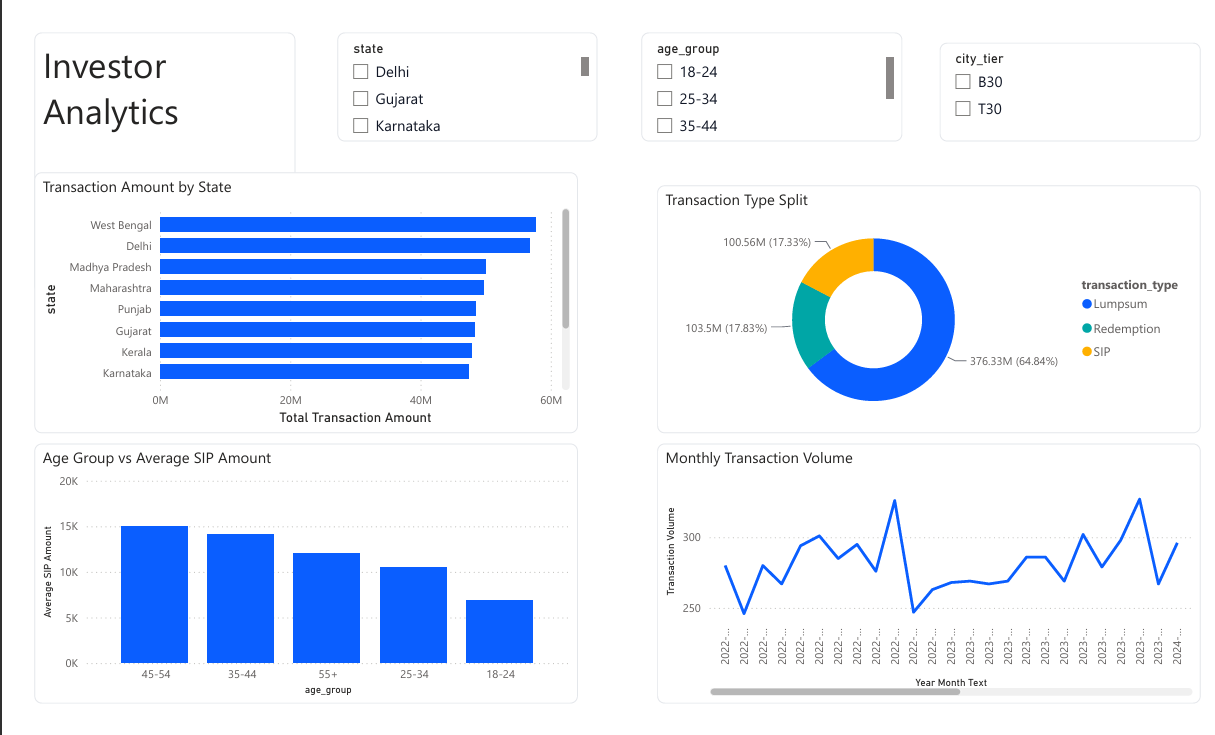

Layout of this report page (visuals, bound fields, positions):
{"tool":"powerbi","page":{"name":"Investor Analytics","canvas":[1280,720],"ordinal":2},"visuals":[{"type":"textbox","box":[10,0,280,280],"z":0},{"type":"slicer","fields":{"Values":["fact_transactions.state"]},"box":[335,0,279.4,116.9],"z":1},{"type":"slicer","fields":{"Values":["fact_transactions.age_group"]},"box":[661.4,0,279.4,116.9],"z":2},{"type":"slicer","fields":{"Values":["fact_transactions.city_tier"]},"box":[980.7,11.4,280.8,105.5],"z":3},{"type":"clusteredBarChart","title":"Transaction Amount by State","fields":{"Category":["fact_transactions.state"],"Y":["dim_date.Total Transaction Amount"]},"box":[10,149.7,583,280.8],"z":4},{"type":"donutChart","title":"Transaction Type Split","fields":{"Category":["fact_transactions.transaction_type"],"Y":["dim_date.Total Transaction Amount"]},"box":[678.5,163.9,583,266.5],"z":5},{"type":"clusteredColumnChart","title":"Age Group vs Average SIP Amount","fields":{"Category":["fact_transactions.age_group"],"Y":["dim_date.Average SIP Amount"]},"box":[10,441,583,279],"z":6},{"type":"lineChart","title":"Monthly Transaction Volume","fields":{"Y":["dim_date.Transaction Volume"],"Category":["fact_transactions.Year Month Text"]},"box":[678,441,583,279],"z":7}]}

Visuals, with their boxes on the page's 1280x720 design canvas (x1, y1, x2, y2). These are canvas units, not pixel positions in the 1215x735 screenshot, which may show the page scaled, cropped or inside an application window:
textbox: box(10, 0, 290, 280)
slicer - fact_transactions.state: box(335, 0, 614, 117)
slicer - fact_transactions.age_group: box(661, 0, 941, 117)
slicer - fact_transactions.city_tier: box(981, 11, 1262, 117)
"Transaction Amount by State" clusteredBarChart: box(10, 150, 593, 430)
"Transaction Type Split" donutChart: box(678, 164, 1262, 430)
"Age Group vs Average SIP Amount" clusteredColumnChart: box(10, 441, 593, 720)
"Monthly Transaction Volume" lineChart: box(678, 441, 1261, 720)
